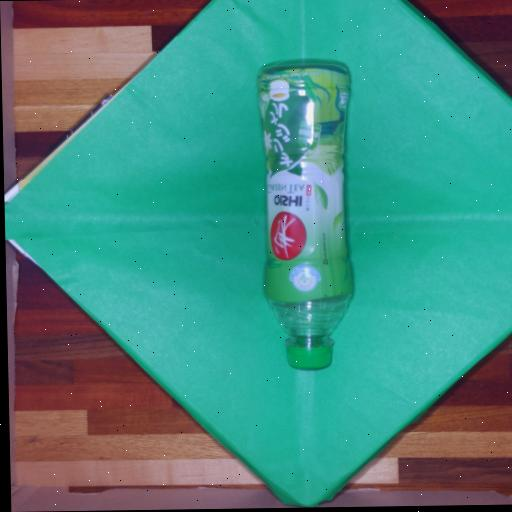bottle: (258, 65, 352, 369)
